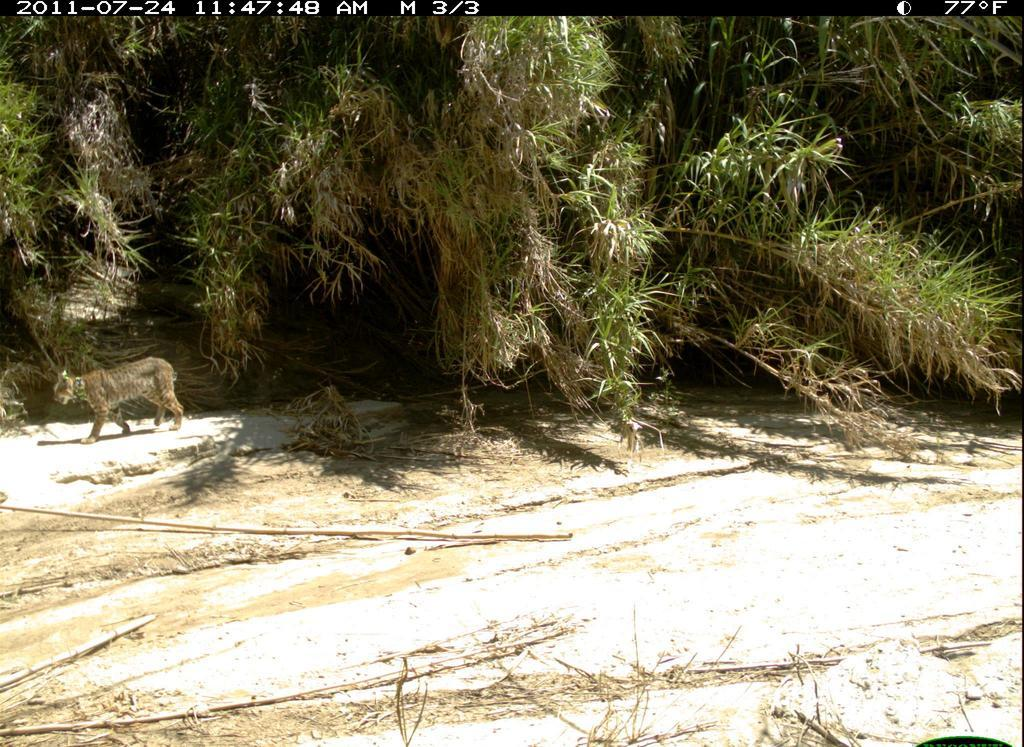bobcat: (41, 356, 204, 449)
